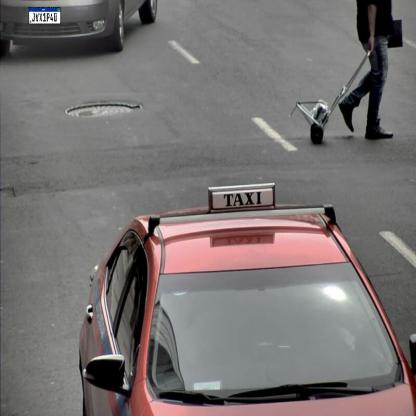PlacaM: (28, 7, 60, 24)
